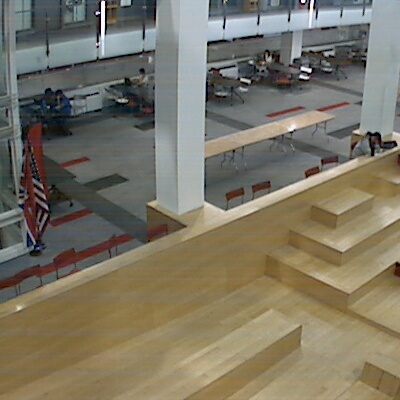head: (370, 129, 385, 144), (42, 86, 55, 99), (56, 89, 68, 101), (137, 66, 148, 77), (262, 49, 270, 57)
